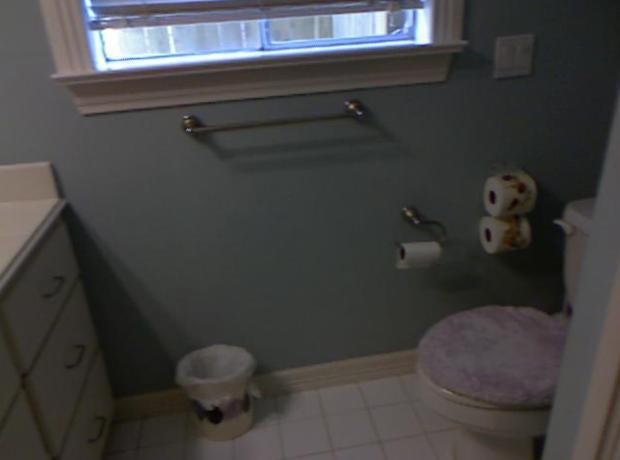Bote de Basura: (172, 342, 264, 446)
Sanitario: (411, 200, 619, 451)
